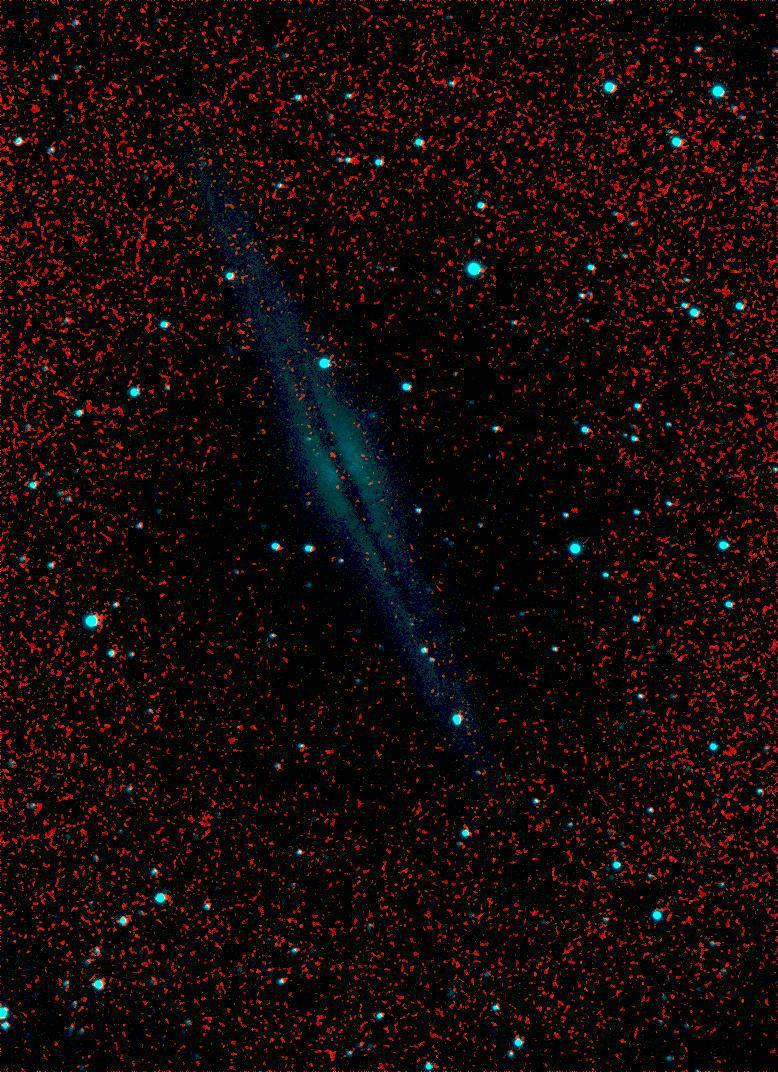star: (317, 438, 347, 468)
